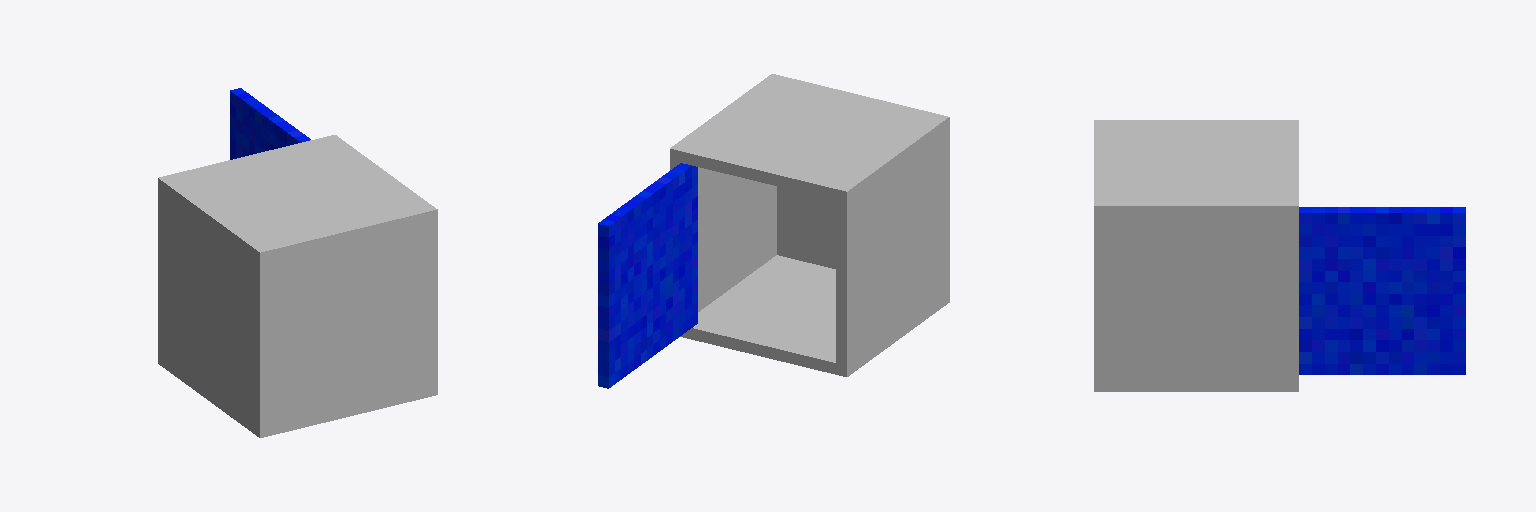
3 views of the same model, side by side, from view 1: azimuth 30°, elevation 25°; view 2: azimuth 150°, elevation 25°; view 3: azimuth 270°, elevation 25° (orthographic).
Parts seen in each view (by area): view 1: south, west, up, east, cube, north; view 2: west, cube, up, east, under, north, south; view 3: east, cube, up, west, north, south.
Part boxes in pixels (x1,y1,x2,y2): south: (265,208,425,435); west: (158,175,270,437); up: (176,142,419,244); east: (324,135,437,397); cube: (230,88,310,159); north: (169,137,329,179); west: (836,114,949,376); cube: (598,163,697,388); up: (687,81,930,183); east: (670,74,782,336); under: (698,255,835,356); north: (681,147,841,374); south: (777,76,937,268); east: (1094,201,1298,391); cube: (1299,207,1465,374); up: (1107,125,1285,200); west: (1094,120,1298,124); north: (1286,125,1298,200); south: (1094,125,1106,200).
Bounding box in the file's own units: 1 × 1 × 1.81.
Materials: 2 (1 with a texture image).